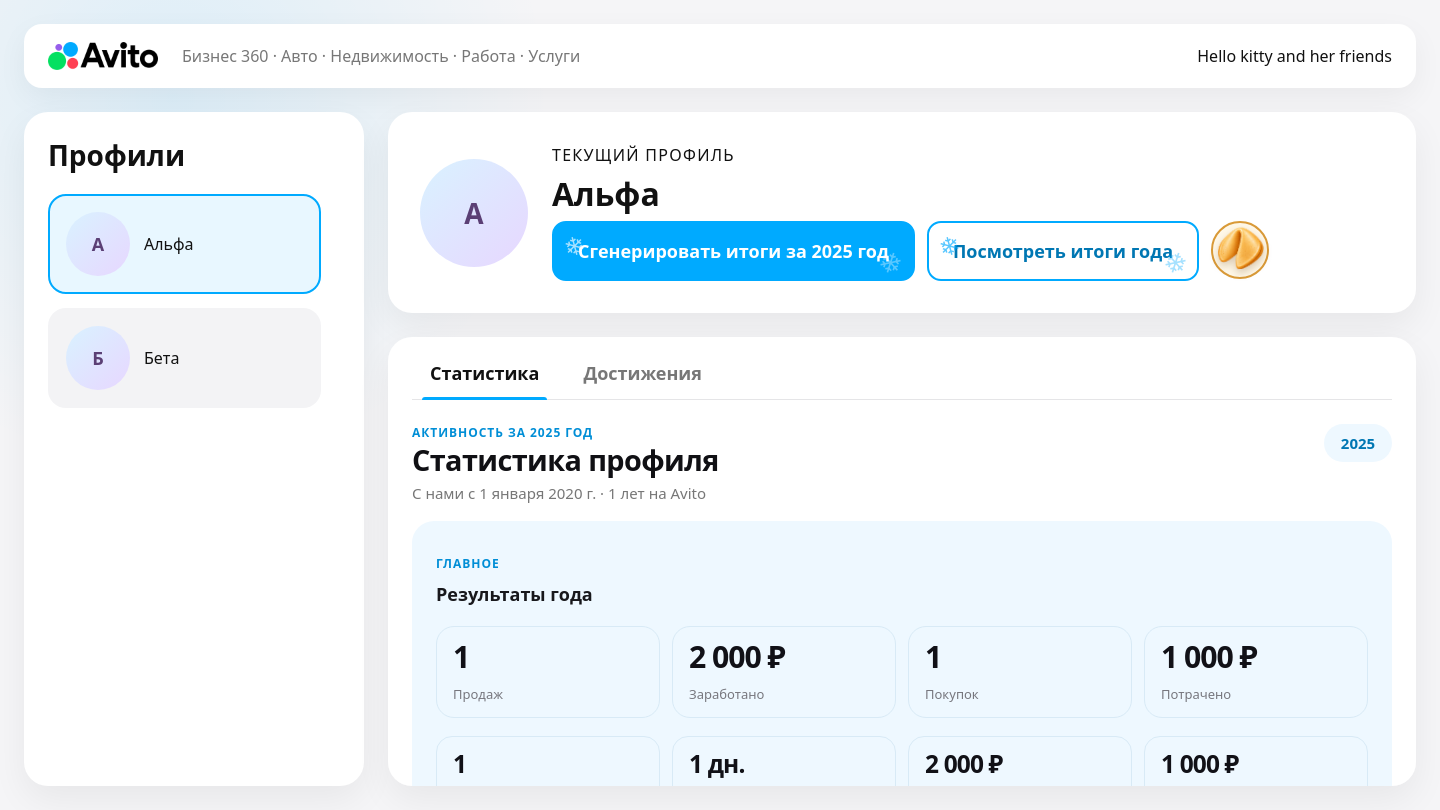
Test: ошибки загрузки страницы профиля › повторно загружает достижения после ошибки
Click the tab "Достижения" at (643, 380), box [565,361,720,399]
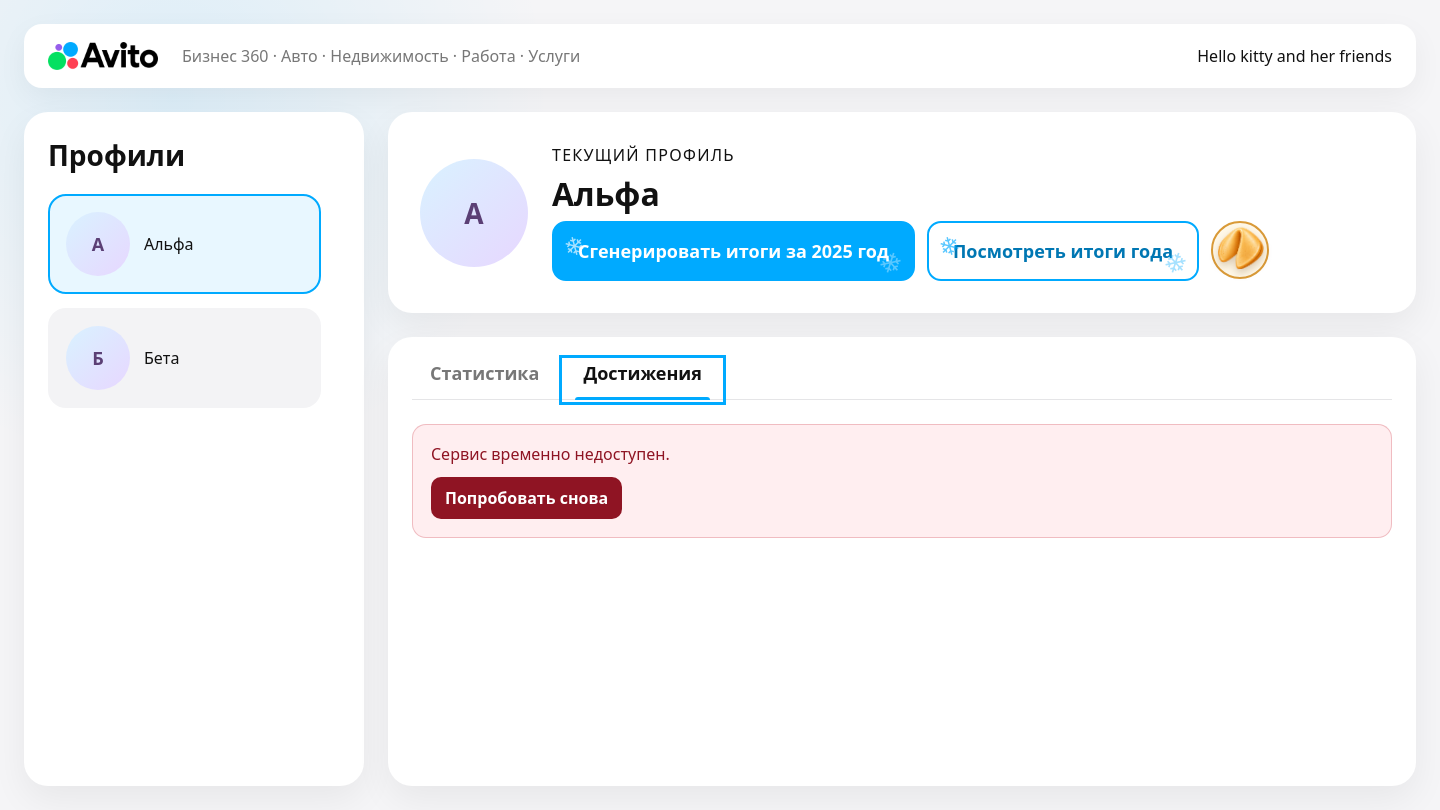
Result: the message shows "Сервис временно недоступен." at [431,443,670,465]
Click the button "Попробовать снова" at (527, 498), box [431,477,622,519]
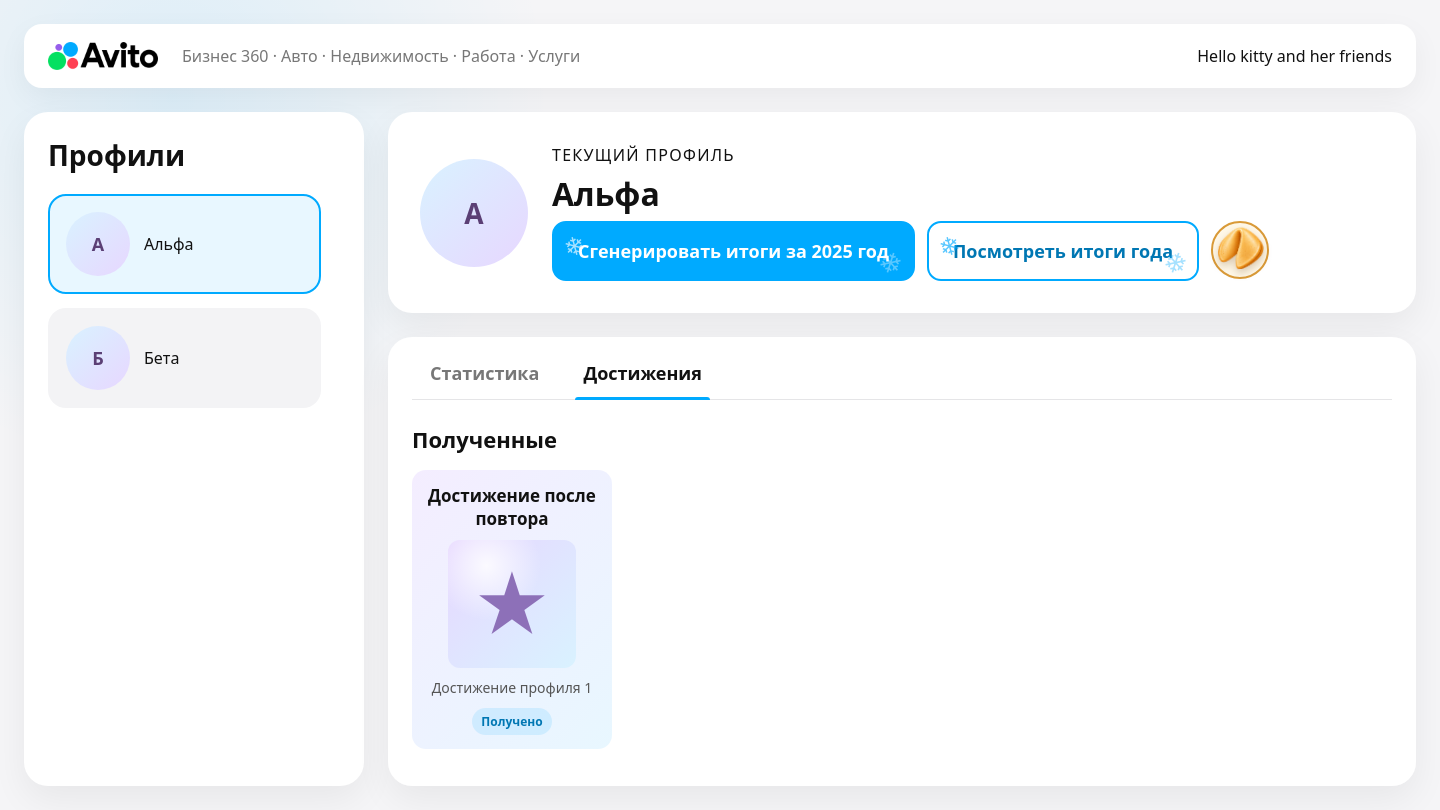
Result: the heading "Достижение после повтора" is shown at [426,484,598,530]
Result: the message "Сервис временно недоступен. Попробовать снова" is gone
